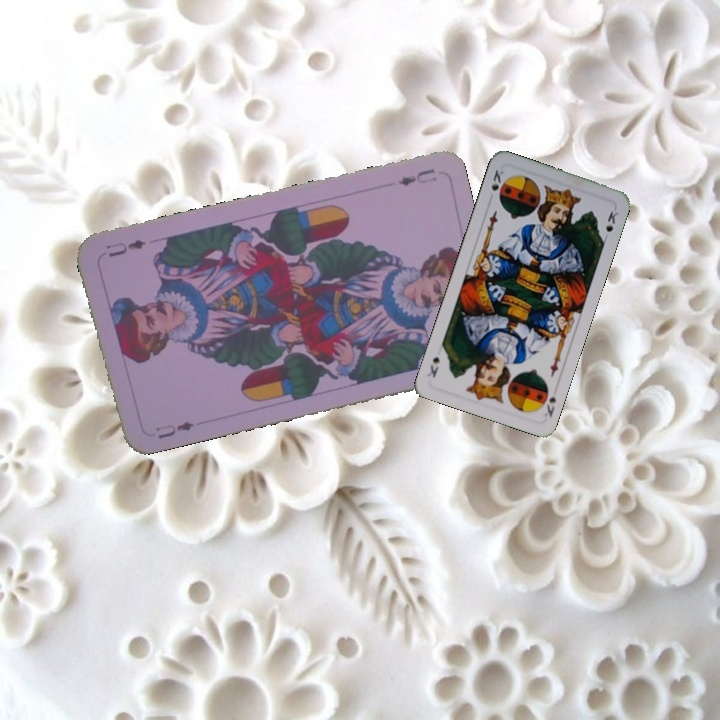EU: (152, 417, 197, 442), (394, 164, 439, 189)
SK: (487, 165, 507, 193), (540, 393, 559, 420)
